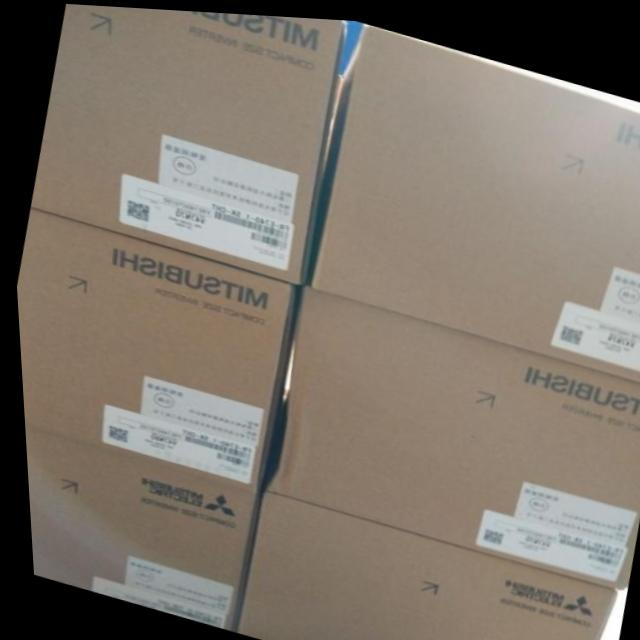box: (296, 16, 640, 376), (256, 283, 640, 586), (30, 3, 349, 283), (13, 206, 294, 491), (228, 487, 609, 640), (20, 425, 256, 630)
